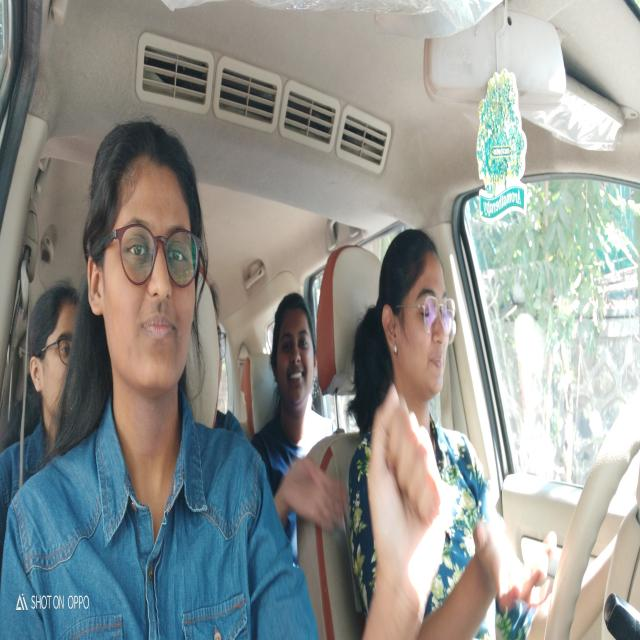drowsy: (382, 232, 457, 392)
person: (84, 119, 207, 394), (24, 284, 82, 401), (271, 290, 315, 407)
